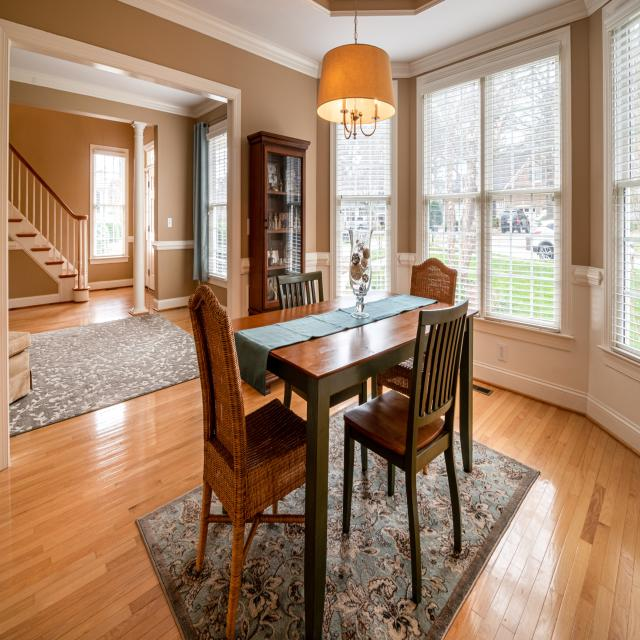floor: (0, 376, 204, 640), (438, 378, 640, 640), (8, 285, 133, 334), (133, 288, 194, 338), (241, 379, 285, 417), (329, 394, 359, 415), (289, 391, 307, 420), (454, 369, 460, 433), (382, 386, 392, 394), (367, 377, 371, 395)
wall: (408, 0, 590, 416), (9, 80, 196, 316), (584, 0, 640, 455), (8, 103, 135, 290), (8, 233, 90, 309), (316, 79, 336, 301), (390, 62, 409, 294), (196, 103, 227, 127), (143, 125, 154, 146)
